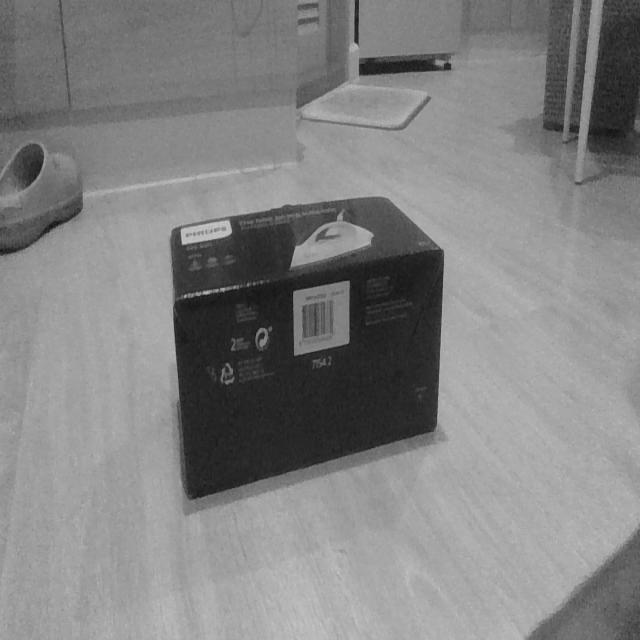IRON: (168, 192, 446, 502)
